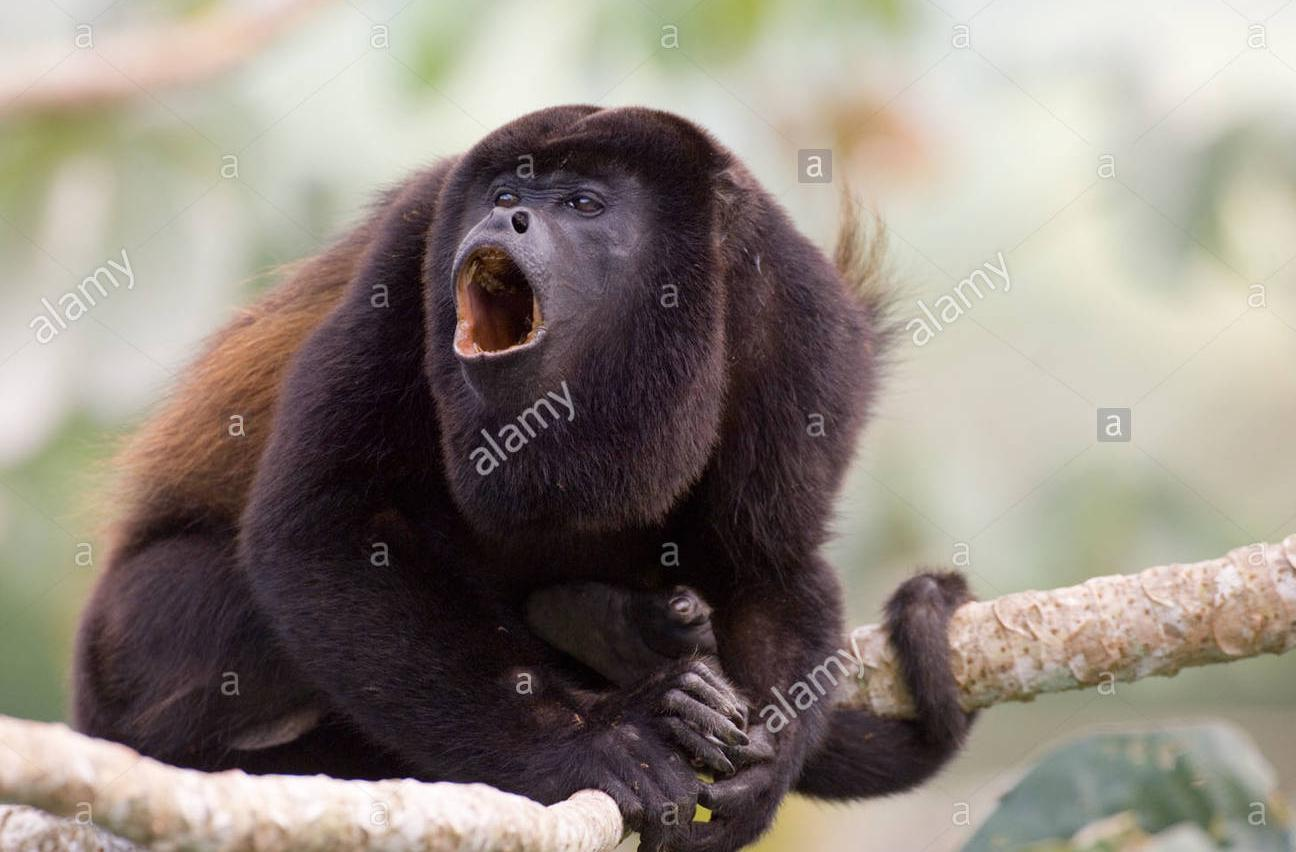monkey: (75, 105, 975, 851)
